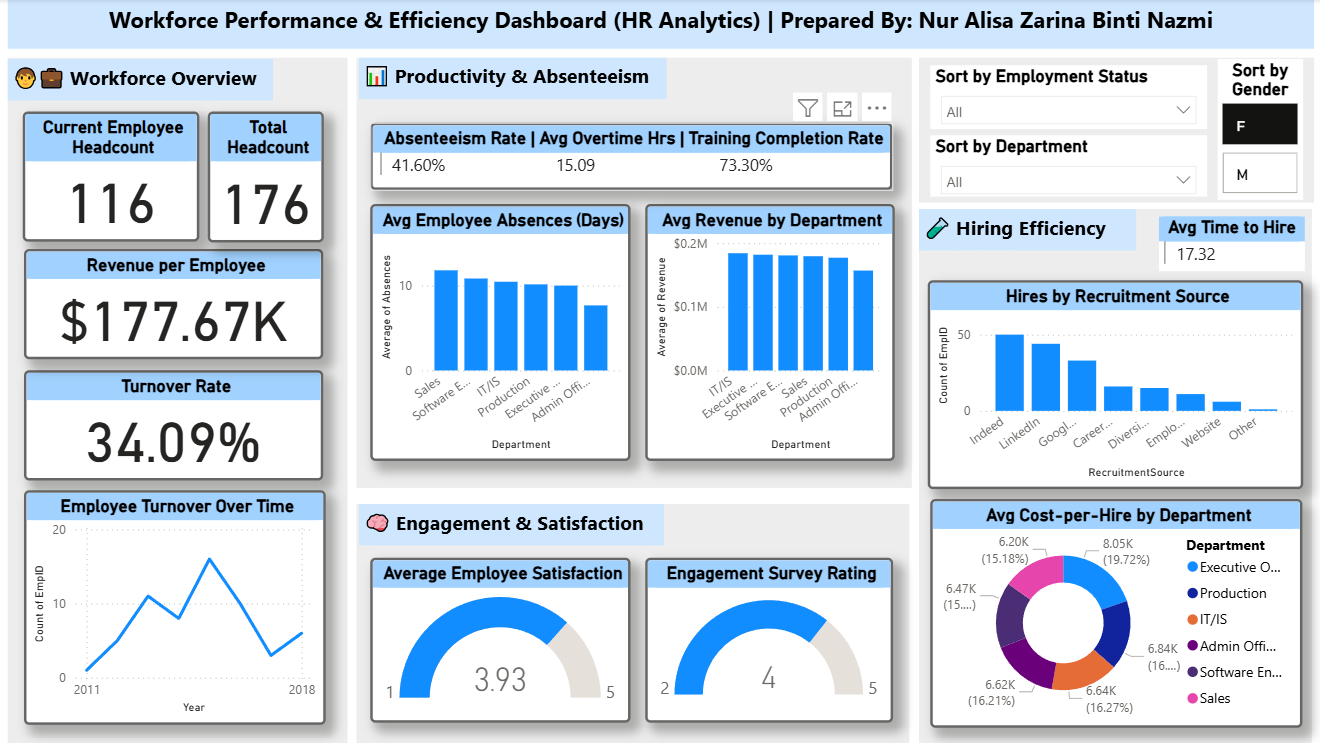

The page's visual inventory and layout, read from the dashboard file:
{"tool":"powerbi","page":{"name":"Executive Overview","canvas":[1280,720],"ordinal":0},"visuals":[{"type":"shape","box":[887.6,57.2,381.3,139.8],"z":0},{"type":"shape","box":[345.3,487.2,533.8,233],"z":1000},{"type":"shape","box":[887.5,203.1,379.2,516.9],"z":2000},{"type":"shape","box":[345.3,57.2,536,415.2],"z":3000},{"type":"shape","box":[8.5,57.2,328.4,663.1],"z":4000},{"type":"textbox","box":[8.7,0,1261,47.8],"z":5000},{"type":"card","title":"Current Employee Headcount","fields":{"Values":["cleaned_hr_data.Headcount"]},"box":[22.9,108.6,170.1,125.5],"z":6000},{"type":"card","title":"Turnover Rate","fields":{"Values":["cleaned_hr_data.Turnover Rate"]},"box":[23.9,358.7,289.2,106.5],"z":7000},{"type":"gauge","title":"Average Employee Satisfaction","fields":{"MaxValue":["Max(cleaned_hr_data.EmpSatisfaction)1"],"MinValue":["Min(cleaned_hr_data.EmpSatisfaction)2"],"Y":["Avg(cleaned_hr_data.EmpSatisfaction)"]},"box":[358.3,539.9,251.5,159.5],"z":8000},{"type":"gauge","title":"Engagement Survey Rating","fields":{"MaxValue":["Max(cleaned_hr_data.EngagementSurvey)2"],"MinValue":["Min(cleaned_hr_data.EngagementSurvey)1"],"Y":["Avg(cleaned_hr_data.EngagementSurvey)"]},"box":[623.3,539.9,239.3,159.5],"z":9000},{"type":"columnChart","title":"Avg Employee Absences (Days)","fields":{"Category":["cleaned_hr_data.Department"],"Y":["Avg(cleaned_hr_data.Absences)"]},"box":[358.3,197.5,251.5,247.9],"z":10000},{"type":"columnChart","title":"Hires by Recruitment Source","fields":{"Category":["cleaned_hr_data.RecruitmentSource"],"Y":["CountNonNull(cleaned_hr_data.EmpID)"]},"box":[895.9,270.9,362.3,201.3],"z":11000},{"type":"donutChart","title":"Avg Cost-per-Hire by Department","fields":{"Category":["cleaned_hr_data.Department"],"Y":["Avg(cleaned_hr_data.HiringCost)"]},"box":[898.8,482.6,359.5,220.8],"z":12000},{"type":"columnChart","title":"Avg Revenue by Department","fields":{"Category":["cleaned_hr_data.Department"],"Y":["Avg(cleaned_hr_data.Revenue)"]},"box":[623.3,197.5,240.5,247.9],"z":13000},{"type":"card","title":"Revenue per Employee","fields":{"Values":["Avg(cleaned_hr_data.Revenue)"]},"box":[23.9,241.3,289.2,106.5],"z":14000},{"type":"lineChart","title":"Employee Turnover Over Time","fields":{"Category":["cleaned_hr_data.DateofTermination.Variation.Date Hierarchy.Year","cleaned_hr_data.DateofTermination.Variation.Date Hierarchy.Month"],"Y":["CountNonNull(cleaned_hr_data.EmpID)"]},"box":[23.9,474,291.3,226.1],"z":15000},{"type":"multiRowCard","title":"Absenteeism Rate | Avg Overtime Hrs | Training Completion Rate","fields":{"Values":["cleaned_hr_data.Absenteeism Rate","Avg(cleaned_hr_data.OvertimeHours)","cleaned_hr_data.Training Completion Rate"]},"box":[358.3,119,504.3,65],"z":16000},{"type":"textbox","box":[8.8,57.5,256.2,40],"z":17000},{"type":"textbox","box":[347.4,57.2,296.6,40.3],"z":18000},{"type":"textbox","box":[887.5,203.1,209.7,40.3],"z":19000},{"type":"multiRowCard","title":"Avg Time to Hire","fields":{"Values":["cleaned_hr_data.Avg Time to Hire"]},"box":[1119,209.8,141.1,52.8],"z":20000},{"type":"textbox","box":[347.4,487.2,294.5,40.3],"z":21000},{"type":"slicer","title":"Sort by Employment Status","fields":{"Values":["cleaned_hr_data.EmploymentStatus"]},"box":[898.2,63.6,266.9,61.4],"z":22000},{"type":"slicer","title":"Sort by Department","fields":{"Values":["cleaned_hr_data.Department"]},"box":[898.2,131.3,266.9,59.3],"z":23000},{"type":"advancedSlicerVisual","title":"Sort by Gender","fields":{"Values":["cleaned_hr_data.Sex"]},"box":[1176.3,57.9,82,136.3],"z":24000},{"type":"card","title":"Total Headcount","fields":{"Values":["CountNonNull(cleaned_hr_data.EmpID)"]},"box":[201.5,108.6,112.2,126.7],"z":25000}]}

Visuals, with their boxes in screenshot pixels (x1, y1, x2, y2), scaled from the page's 1280x720 canvas onto the 1320x743 screenshot:
shape: x1=915, y1=59, x2=1309, y2=203
shape: x1=356, y1=503, x2=907, y2=742
shape: x1=915, y1=210, x2=1306, y2=742
shape: x1=356, y1=59, x2=909, y2=487
shape: x1=9, y1=59, x2=347, y2=742
textbox: x1=9, y1=0, x2=1309, y2=49
"Current Employee Headcount" card: x1=24, y1=112, x2=199, y2=242
"Turnover Rate" card: x1=25, y1=370, x2=323, y2=480
"Average Employee Satisfaction" gauge: x1=369, y1=557, x2=629, y2=722
"Engagement Survey Rating" gauge: x1=643, y1=557, x2=890, y2=722
"Avg Employee Absences (Days)" columnChart: x1=369, y1=204, x2=629, y2=460
"Hires by Recruitment Source" columnChart: x1=924, y1=280, x2=1298, y2=487
"Avg Cost-per-Hire by Department" donutChart: x1=927, y1=498, x2=1298, y2=726
"Avg Revenue by Department" columnChart: x1=643, y1=204, x2=891, y2=460
"Revenue per Employee" card: x1=25, y1=249, x2=323, y2=359
"Employee Turnover Over Time" lineChart: x1=25, y1=489, x2=325, y2=722
"Absenteeism Rate | Avg Overtime Hrs | Training Completion Rate" multiRowCard: x1=369, y1=123, x2=890, y2=190
textbox: x1=9, y1=59, x2=273, y2=101
textbox: x1=358, y1=59, x2=664, y2=101
textbox: x1=915, y1=210, x2=1131, y2=251
"Avg Time to Hire" multiRowCard: x1=1154, y1=217, x2=1299, y2=271
textbox: x1=358, y1=503, x2=662, y2=544
"Sort by Employment Status" slicer: x1=926, y1=66, x2=1202, y2=129
"Sort by Department" slicer: x1=926, y1=135, x2=1202, y2=197
"Sort by Gender" advancedSlicerVisual: x1=1213, y1=60, x2=1298, y2=200
"Total Headcount" card: x1=208, y1=112, x2=324, y2=243
